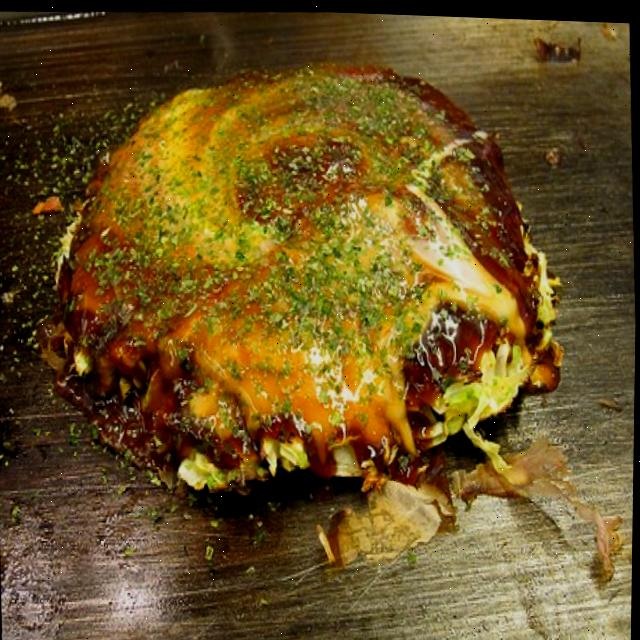蛋糕甜品: (52, 52, 578, 600)
